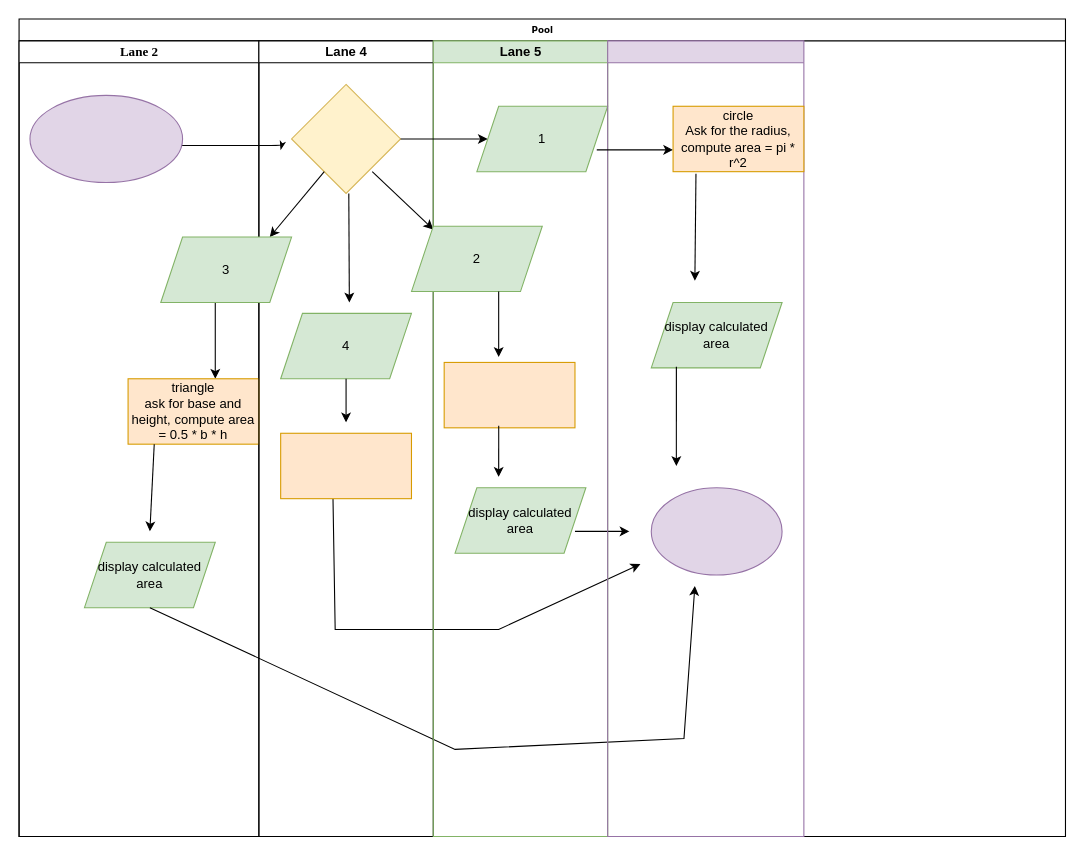
Some shapes in this 1085 by 856 pixel diagram are drawn without their labels. Here are the shapes that lost their labels. From the top down, the box of each, then its label:
(29, 94, 183, 183): Start
(290, 83, 401, 193): Decision
(443, 361, 575, 428): rectangle ask for length and width, compute area = l*w
(607, 40, 804, 837): Lane 6
(280, 432, 411, 499): error
(650, 487, 782, 575): end
